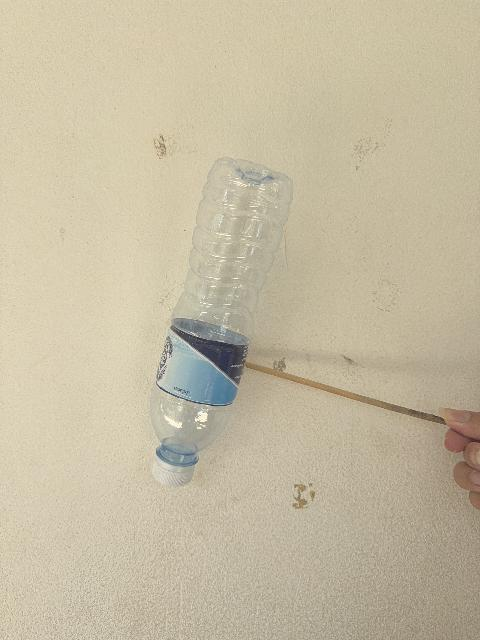bottle: (151, 158, 292, 486)
